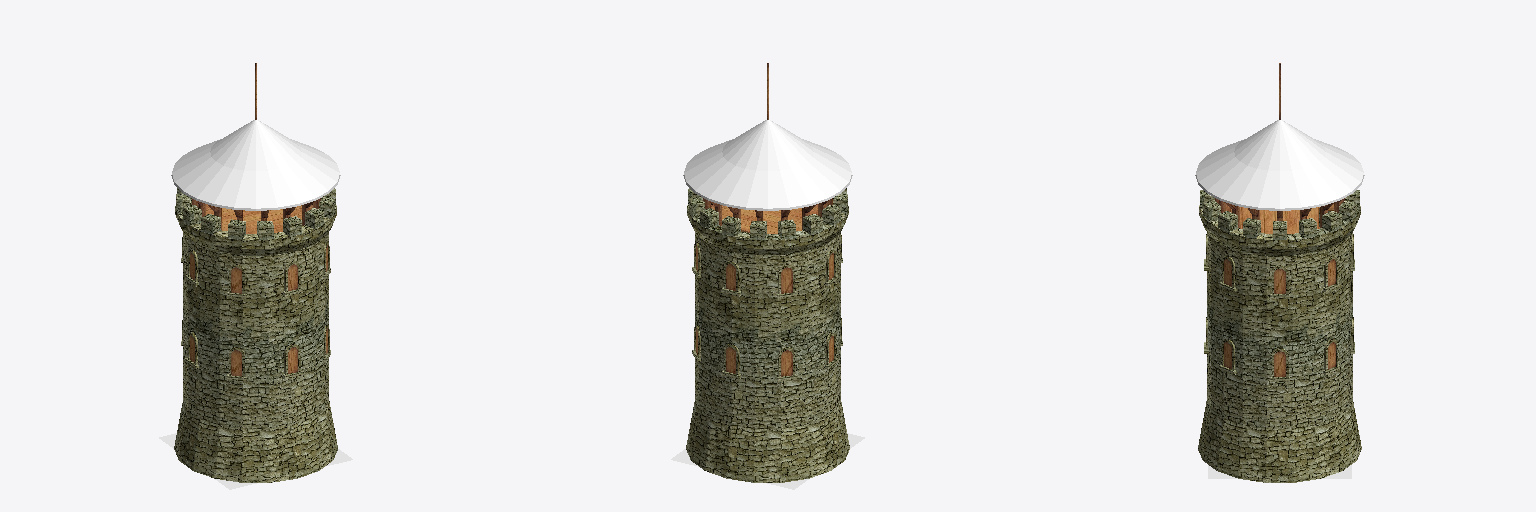
The picture shows the model from 3 angles: view 1: azimuth 30°, elevation 25°; view 2: azimuth 150°, elevation 25°; view 3: azimuth 270°, elevation 25°; orthographic projection.
Visible parts, largest first — view 1: limestone, roof, floor; view 2: limestone, roof, floor; view 3: limestone, roof, floor.
Part boxes in pixels (bbox=[...]): limestone: bbox=[174, 188, 337, 482]; roof: bbox=[171, 120, 340, 210]; floor: bbox=[190, 63, 327, 376]; limestone: bbox=[686, 188, 849, 482]; roof: bbox=[683, 120, 852, 210]; floor: bbox=[696, 63, 833, 376]; limestone: bbox=[1198, 190, 1361, 482]; roof: bbox=[1195, 120, 1364, 210]; floor: bbox=[1215, 63, 1344, 376].
Size of the model in its own units: 89.81 by 226 by 89.81.
Materials: 4 (2 with a texture image).